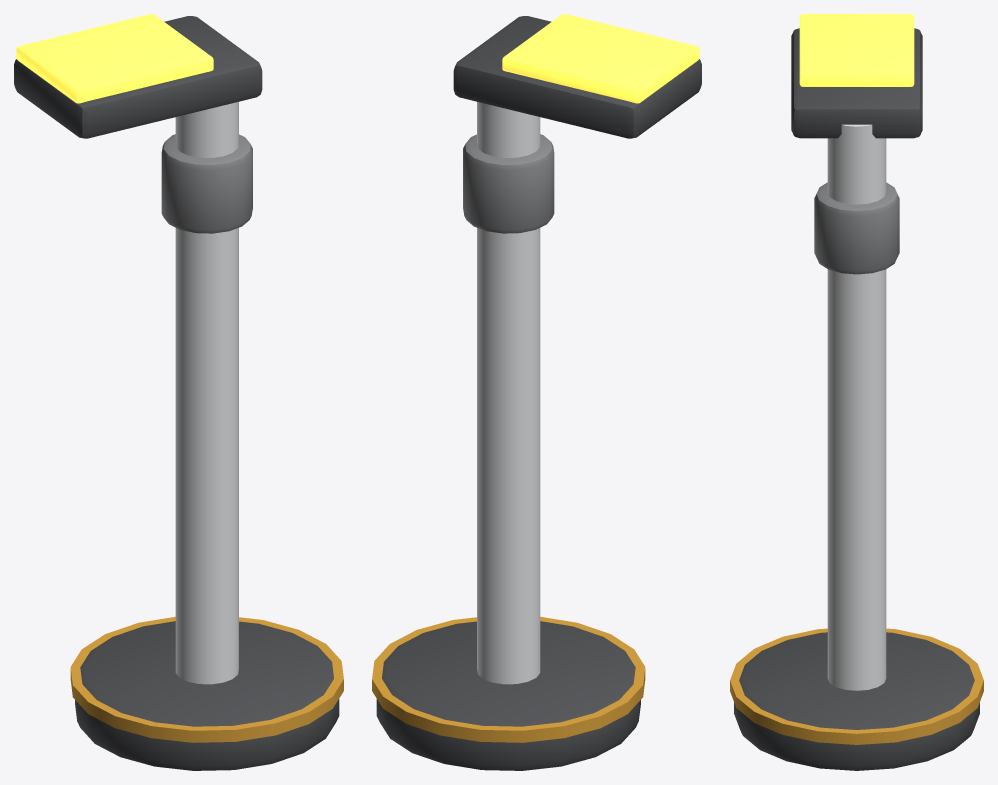
File: acc_antisag.glb
The picture shows the model from 3 angles, left to right: view 1: azimuth 30°, elevation 25°; view 2: azimuth 150°, elevation 25°; view 3: azimuth 270°, elevation 25°; orthographic projection. The views are drawn at different scales.
Visible parts, largest first — view 1: Acc_AntiSag; view 2: Acc_AntiSag; view 3: Acc_AntiSag.
Boxes of the visible parts, box(x1,y1,x2,y2) form: Acc_AntiSag: box(14, 14, 343, 770); Acc_AntiSag: box(372, 14, 701, 770); Acc_AntiSag: box(730, 14, 983, 770).
Bounding box in the file's own units: 0.365 × 0.859 × 0.31.
